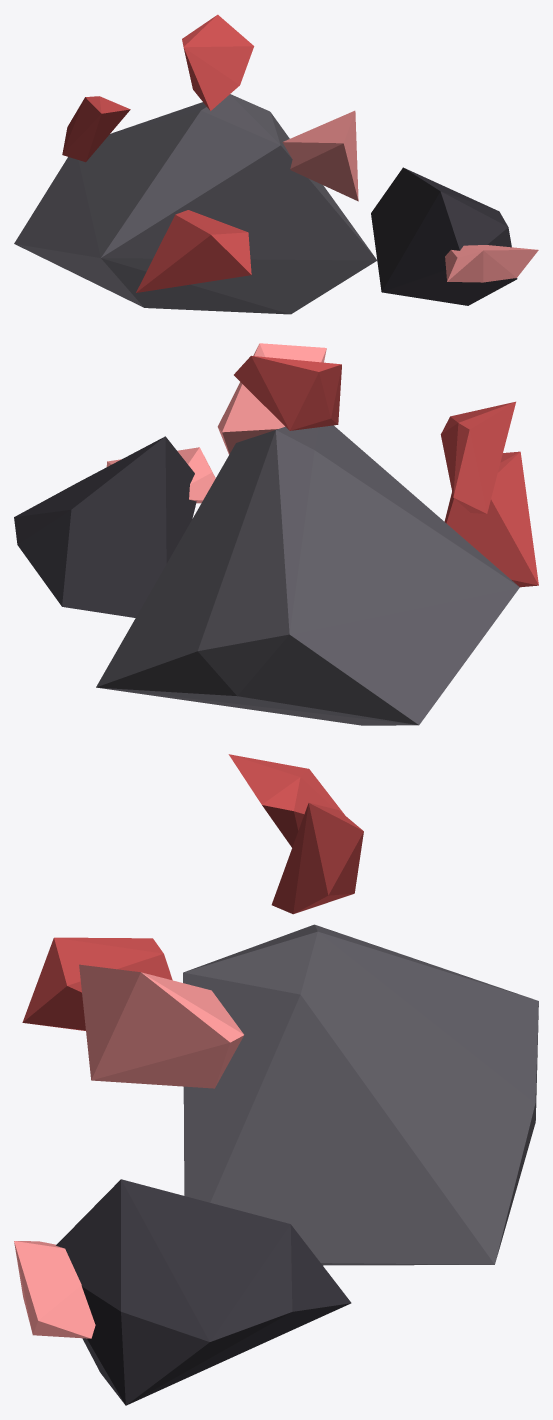
Rendered from ore.glb.
The picture shows the model from 3 angles, top to bottom: view 1: azimuth 30°, elevation 25°; view 2: azimuth 150°, elevation 25°; view 3: azimuth 270°, elevation 25°; orthographic projection. The views are drawn at different scales.
Parts seen in each view (by area): view 1: ore; view 2: ore; view 3: ore.
Part boxes in pixels (<box>): ore: <box>14,14,538,314</box>; ore: <box>14,343,538,725</box>; ore: <box>14,754,538,1405</box>.
Size of the model in its own units: 0.2749 by 0.1768 by 0.2018.
